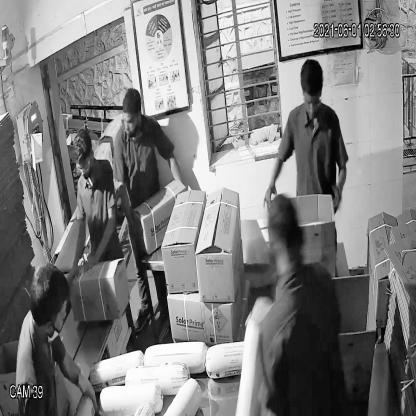goggles: (70, 151, 96, 179)
